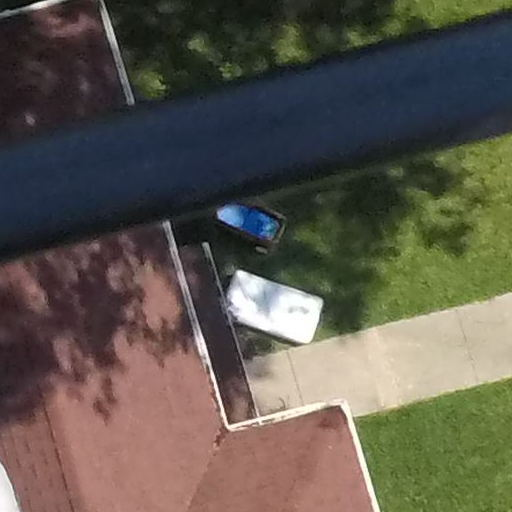toy: (195, 199, 294, 257)
